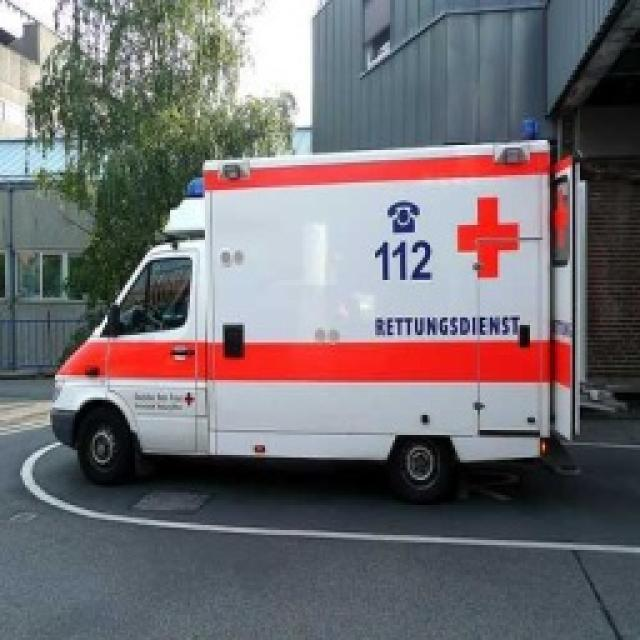emergency-vehicle: (52, 118, 585, 507)
